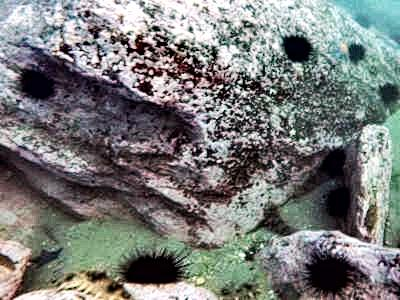urchin: (121, 246, 189, 286), (304, 254, 357, 297), (18, 64, 55, 96), (284, 33, 313, 61), (322, 143, 344, 177), (327, 189, 352, 218), (347, 42, 365, 62)
